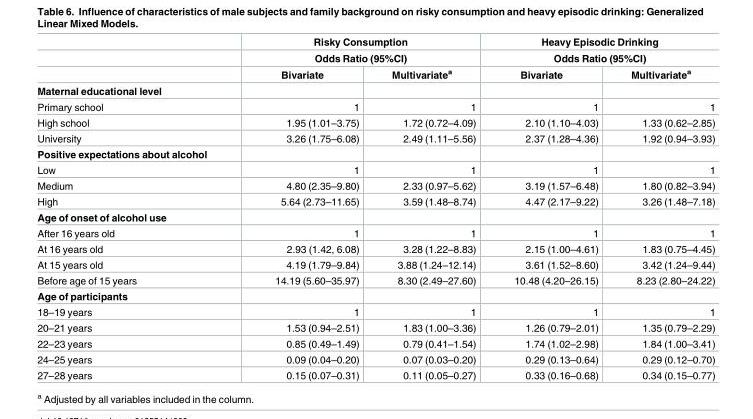table: (36, 37, 714, 380)
table column: (36, 37, 240, 380), (240, 37, 374, 380), (374, 37, 494, 380), (494, 37, 613, 380), (613, 37, 714, 380)
table column header: (36, 37, 714, 83)
table projected row header: (36, 83, 714, 99), (36, 146, 714, 162), (36, 209, 714, 225), (36, 288, 714, 304)
table row: (36, 65, 714, 83), (36, 83, 714, 99), (36, 99, 714, 115), (36, 130, 714, 146), (36, 146, 714, 162), (36, 162, 714, 178), (36, 193, 714, 209), (36, 209, 714, 225), (36, 225, 714, 241), (36, 241, 714, 257), (36, 272, 714, 288), (36, 288, 714, 304), (36, 304, 714, 320), (36, 335, 714, 351), (36, 351, 714, 367), (36, 50, 714, 65), (36, 115, 714, 130), (36, 178, 714, 193), (36, 257, 714, 272), (36, 320, 714, 335), (36, 37, 714, 50), (36, 367, 714, 380)
table spanning cell: (240, 37, 494, 65), (494, 37, 714, 65)
